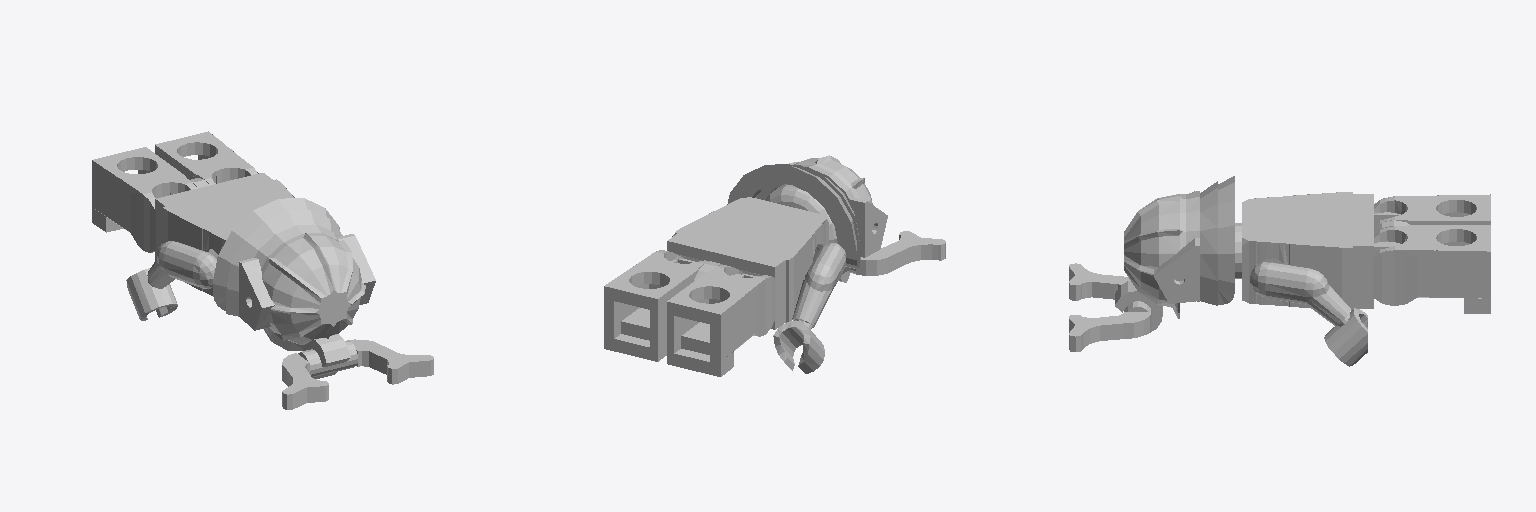
File: dude3.obj
3 views of the same model, side by side, from view 1: azimuth 30°, elevation 25°; view 2: azimuth 150°, elevation 25°; view 3: azimuth 270°, elevation 25° (orthographic).
Parts seen in each view (by area): view 1: mesh01; view 2: mesh01; view 3: mesh01.
Boxes of the visible parts, <box> form: mesh01: <box>92,131,433,409</box>; mesh01: <box>604,155,945,376</box>; mesh01: <box>1069,176,1490,366</box>.
Bounding box in the file's own units: 0.0228 × 0.0188 × 0.0488.